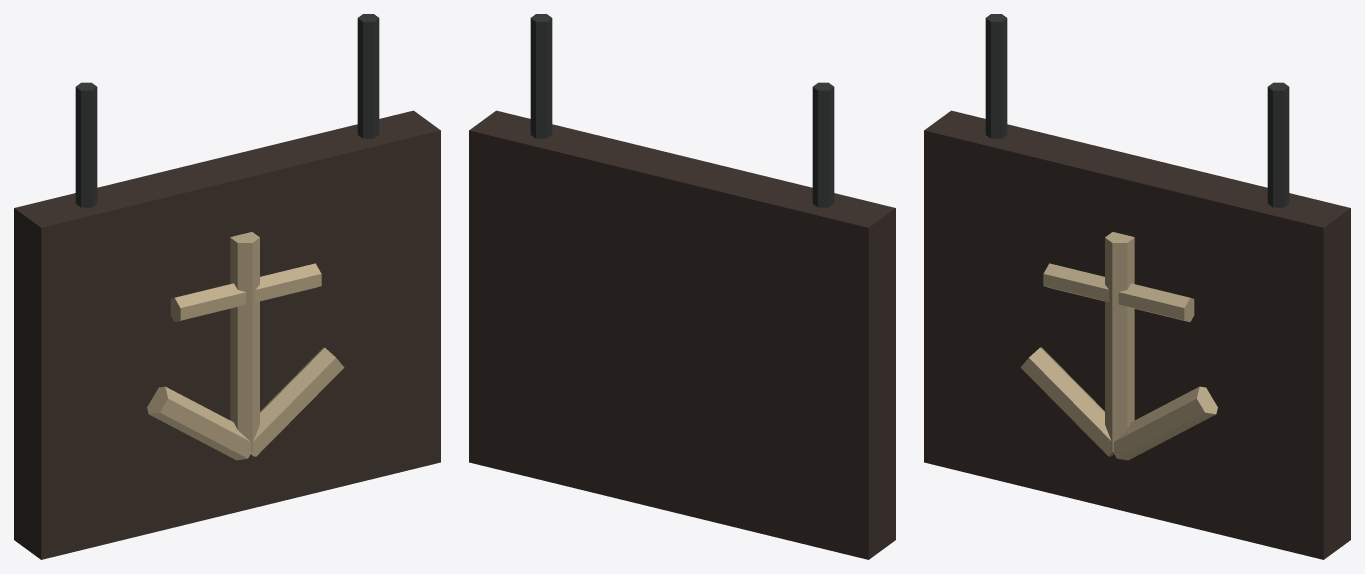
The model's file is sign_sailor.glb.
3 renders of one model, left to right at view 1: azimuth 30°, elevation 25°; view 2: azimuth 150°, elevation 25°; view 3: azimuth 330°, elevation 25°, orthographic.
Parts seen in each view (by area): view 1: signboard.004, anchor mark, anchor mark.001, anchor stock.001, anchor mark.002, sign chain.008, sign chain.009; view 2: signboard.004, sign chain.008, sign chain.009; view 3: signboard.004, anchor mark, anchor mark.002, anchor stock.001, anchor mark.001, sign chain.009, sign chain.008.
Boxes of the visible parts, bbox=[...] form: signboard.004: bbox=[14, 110, 440, 559]; anchor mark: bbox=[230, 232, 259, 451]; anchor mark.001: bbox=[147, 386, 255, 460]; anchor stock.001: bbox=[170, 263, 321, 321]; anchor mark.002: bbox=[251, 347, 344, 456]; sign chain.008: bbox=[75, 82, 97, 207]; sign chain.009: bbox=[357, 14, 379, 138]; signboard.004: bbox=[469, 110, 895, 559]; sign chain.008: bbox=[812, 82, 834, 207]; sign chain.009: bbox=[530, 14, 552, 138]; signboard.004: bbox=[924, 110, 1350, 559]; anchor mark: bbox=[1105, 232, 1134, 451]; anchor mark.002: bbox=[1109, 386, 1217, 460]; anchor stock.001: bbox=[1043, 263, 1194, 321]; anchor mark.001: bbox=[1020, 347, 1113, 456]; sign chain.009: bbox=[1267, 82, 1289, 207]; sign chain.008: bbox=[985, 14, 1007, 138].
Bounding box in the file's own units: 0.34 × 0.365 × 0.057.
